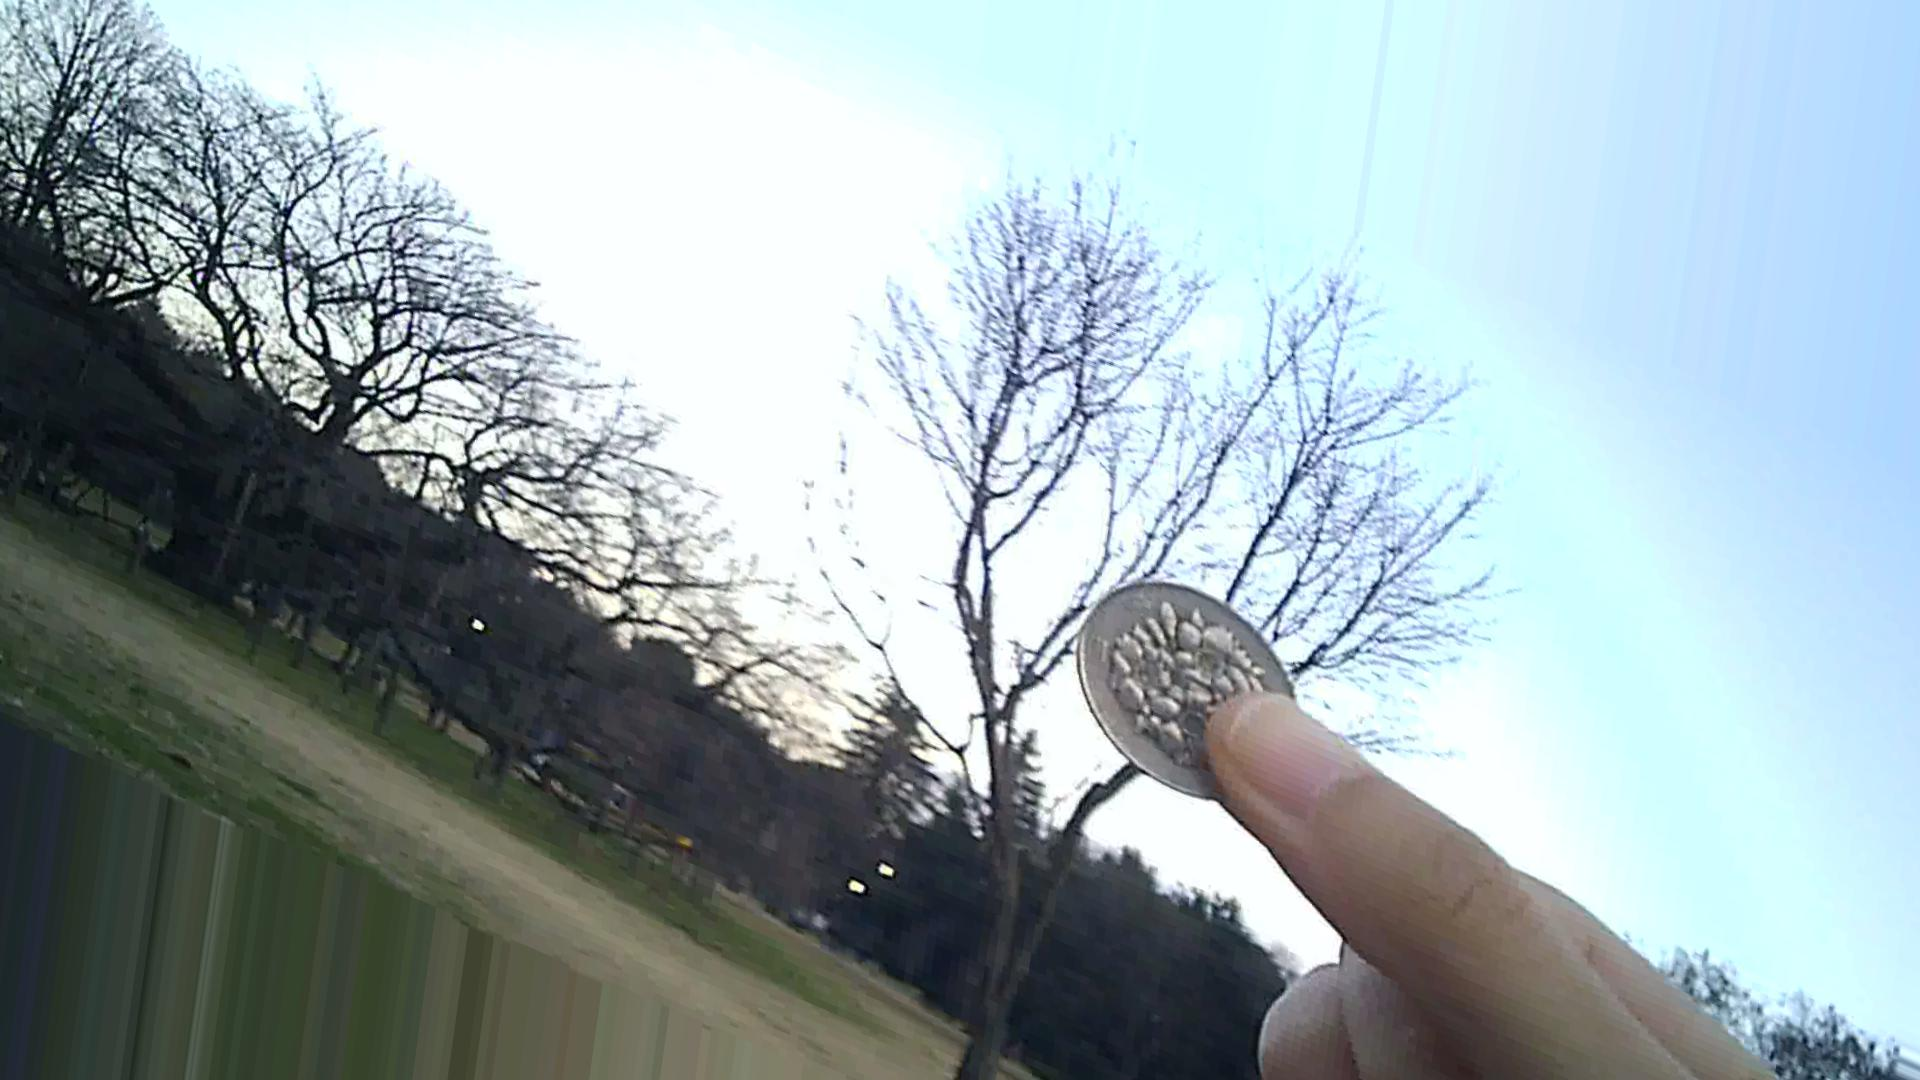100 Yen: (1063, 576, 1300, 807)
